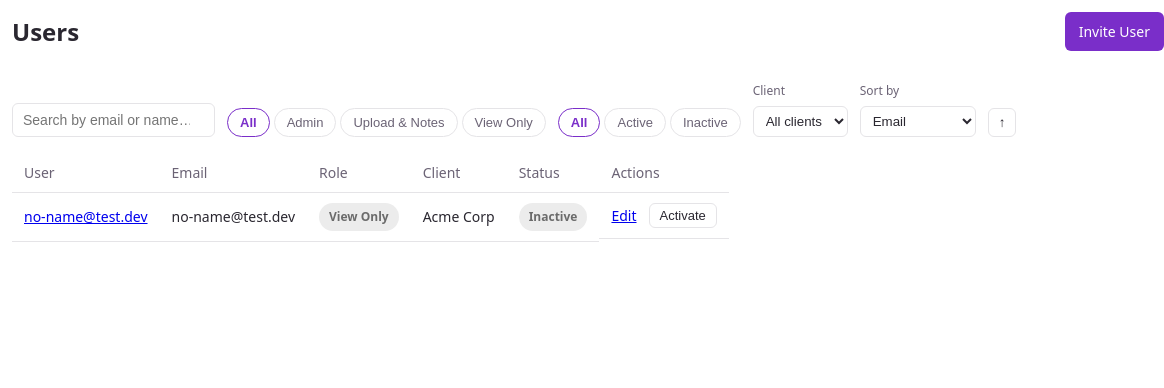
Test case: UsersListPage activate/deactivate › shows an error and does not crash if activate fails
Expected: the link "no-name@test.dev" is shown, [24, 207, 148, 226]
Click the button "Activate". click: click(683, 216)
box: [648, 203, 717, 228]
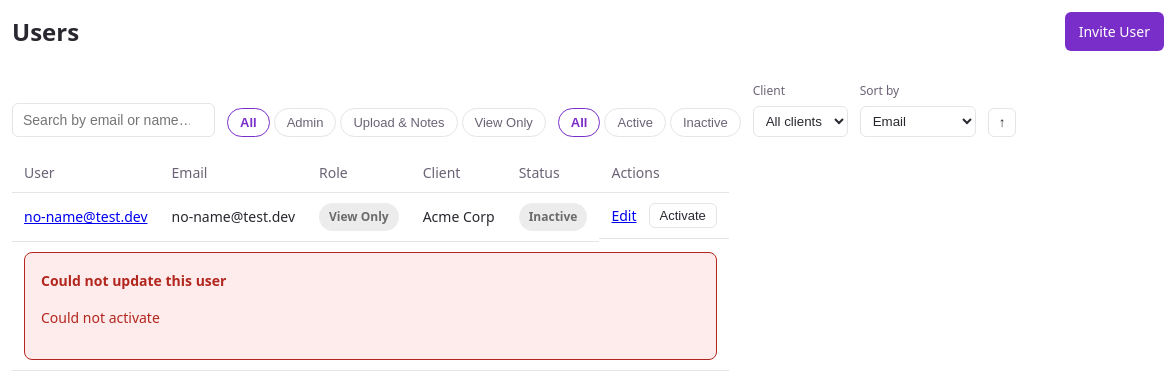
Now the text "Could not activate" is shown, box [41, 308, 160, 327]
